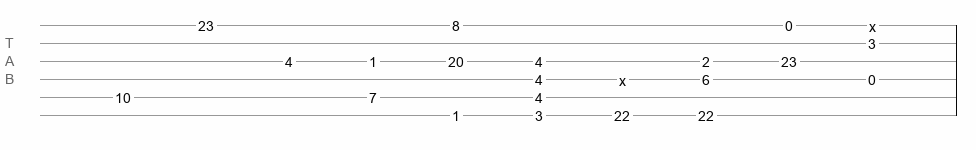0: (785, 18, 793, 28), (868, 72, 876, 82)
1: (369, 54, 377, 64), (452, 108, 460, 118)
10: (115, 90, 131, 100)
2: (702, 54, 710, 64)
20: (448, 54, 464, 64)
22: (614, 108, 630, 118), (698, 108, 714, 118)
23: (198, 18, 214, 28), (781, 54, 797, 64)
3: (535, 108, 543, 118), (868, 36, 876, 46)
4: (285, 54, 293, 64), (535, 90, 543, 100), (535, 72, 543, 82), (535, 54, 543, 64)
6: (702, 72, 710, 82)
7: (369, 90, 377, 100)
8: (452, 18, 460, 28)
x: (619, 73, 626, 81), (869, 19, 876, 27)
